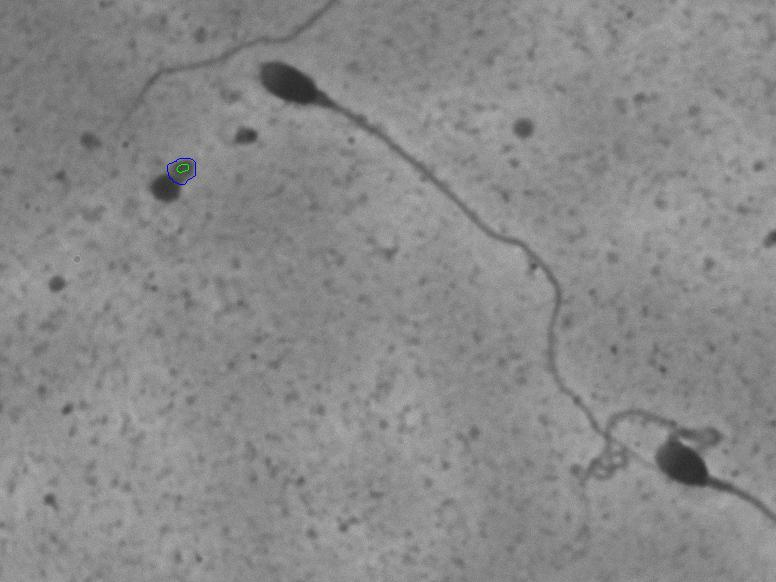Normal: (242, 49, 646, 472)
